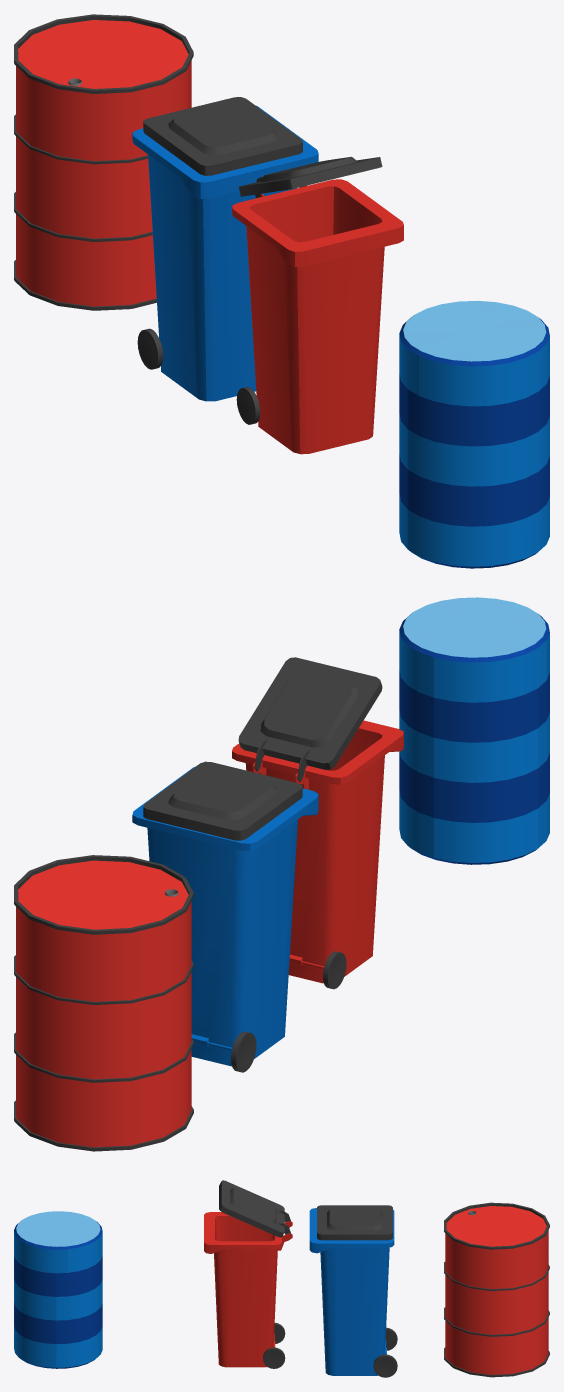
Rendered from trash cans.FBX.
The picture shows the model from 3 angles, top to bottom: view 1: azimuth 30°, elevation 25°; view 2: azimuth 150°, elevation 25°; view 3: azimuth 270°, elevation 25°; orthographic projection. The views are drawn at different scales.
Parts seen in each view (by area): view 1: Object033, Object030, Object031, Object032; view 2: Object033, Object030, Object032, Object031; view 3: Object033, Object030, Object032, Object031.
Part boxes in pixels (box(x1,y1,x2,y2)): Object033: box(14, 14, 193, 310); Object030: box(399, 300, 549, 568); Object031: box(232, 156, 403, 454); Object032: box(132, 97, 318, 401); Object033: box(14, 855, 193, 1151); Object030: box(399, 597, 549, 864); Object032: box(132, 761, 318, 1072); Object031: box(232, 657, 403, 989); Object033: box(444, 1202, 549, 1377); Object030: box(14, 1211, 102, 1368); Object032: box(309, 1205, 397, 1377); Object031: box(204, 1180, 292, 1368).
Size of the model in its own units: 0.4096 by 0.7257 by 2.06.
Materials: 1 (1 with a texture image).
